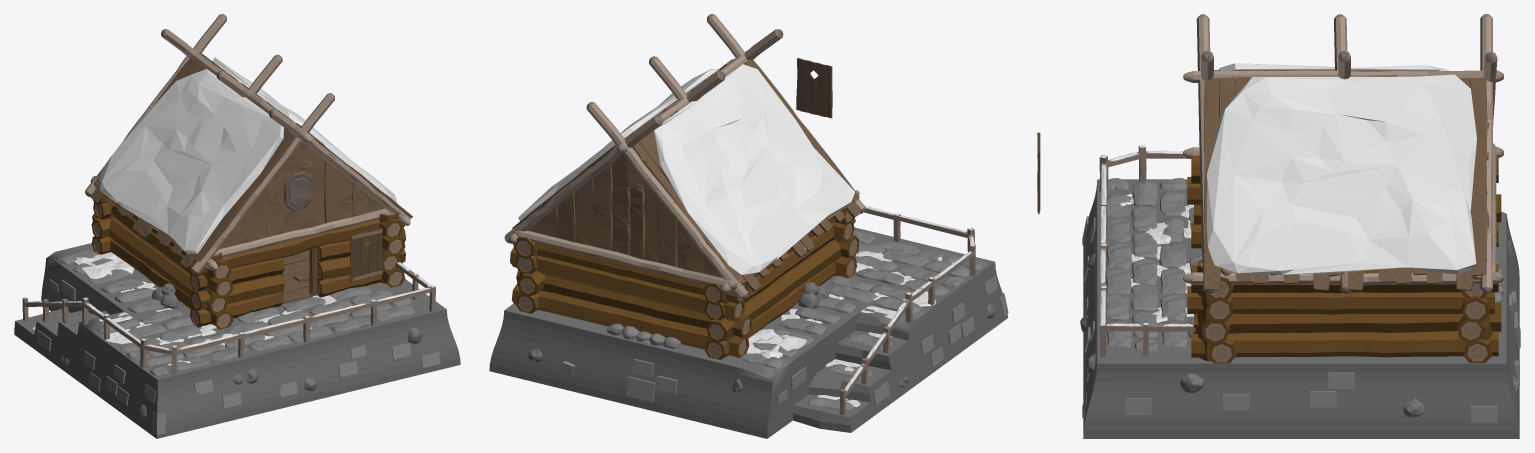
File: new-shack.fbx
The picture shows the model from 3 angles, left to right: view 1: azimuth 30°, elevation 25°; view 2: azimuth 150°, elevation 25°; view 3: azimuth 270°, elevation 25°; orthographic projection. The views are drawn at different scales.
Visible parts, largest first — view 1: base, pasted__pCube80, rock_path, fronttopwall, front1, roof_supports, left, rails, ROOF, pasted__snowinbetween, door, pasted__pCube79 (+7 smaller); view 2: base, pasted__pCube80, back, backtopwall, rock_path, roof_supports, left, ROOF, pasted__snowinbetween, rails, door, right (+5 smaller); view 3: pasted__pCube79, base, right, rock_path, roof_supports, ROOF, rails, front1, back, left, pasted__snow_rails, pasted__pCube80 (+3 smaller).
Part boxes in pixels (x1=…): base: x1=14, y1=243, x2=460, y2=438; pasted__pCube80: x1=98, y1=69, x2=283, y2=253; rock_path: x1=30, y1=251, x2=414, y2=376; fronttopwall: x1=214, y1=141, x2=389, y2=257; front1: x1=189, y1=219, x2=405, y2=327; roof_supports: x1=85, y1=14, x2=410, y2=274; left: x1=92, y1=203, x2=233, y2=329; rails: x1=22, y1=262, x2=435, y2=374; ROOF: x1=90, y1=53, x2=412, y2=267; pasted__snowinbetween: x1=32, y1=252, x2=351, y2=365; door: x1=350, y1=227, x2=382, y2=282; pasted__pCube79: x1=212, y1=57, x2=397, y2=202; base: x1=489, y1=227, x2=1008, y2=438; pasted__pCube80: x1=654, y1=64, x2=854, y2=274; back: x1=510, y1=243, x2=752, y2=357; backtopwall: x1=513, y1=153, x2=741, y2=289; rock_path: x1=740, y1=230, x2=987, y2=409; roof_supports: x1=504, y1=14, x2=865, y2=299; left: x1=703, y1=217, x2=855, y2=359; ROOF: x1=512, y1=58, x2=860, y2=291; pasted__snowinbetween: x1=746, y1=251, x2=953, y2=406; rails: x1=839, y1=208, x2=975, y2=415; door: x1=796, y1=58, x2=832, y2=118; right: x1=513, y1=237, x2=545, y2=313; pasted__pCube79: x1=1206, y1=74, x2=1476, y2=274; base: x1=1080, y1=179, x2=1520, y2=438; right: x1=1187, y1=264, x2=1501, y2=357; rock_path: x1=1106, y1=178, x2=1202, y2=351; roof_supports: x1=1183, y1=14, x2=1503, y2=293; ROOF: x1=1203, y1=69, x2=1487, y2=290; rails: x1=1099, y1=145, x2=1195, y2=356; front1: x1=1201, y1=238, x2=1236, y2=363; back: x1=1457, y1=276, x2=1492, y2=362; left: x1=1187, y1=155, x2=1501, y2=248; pasted__snow_rails: x1=1100, y1=150, x2=1192, y2=326; pasted__pCube80: x1=1219, y1=63, x2=1450, y2=71.
Bounding box in the file's own units: 32.29 × 26.28 × 33.74.
